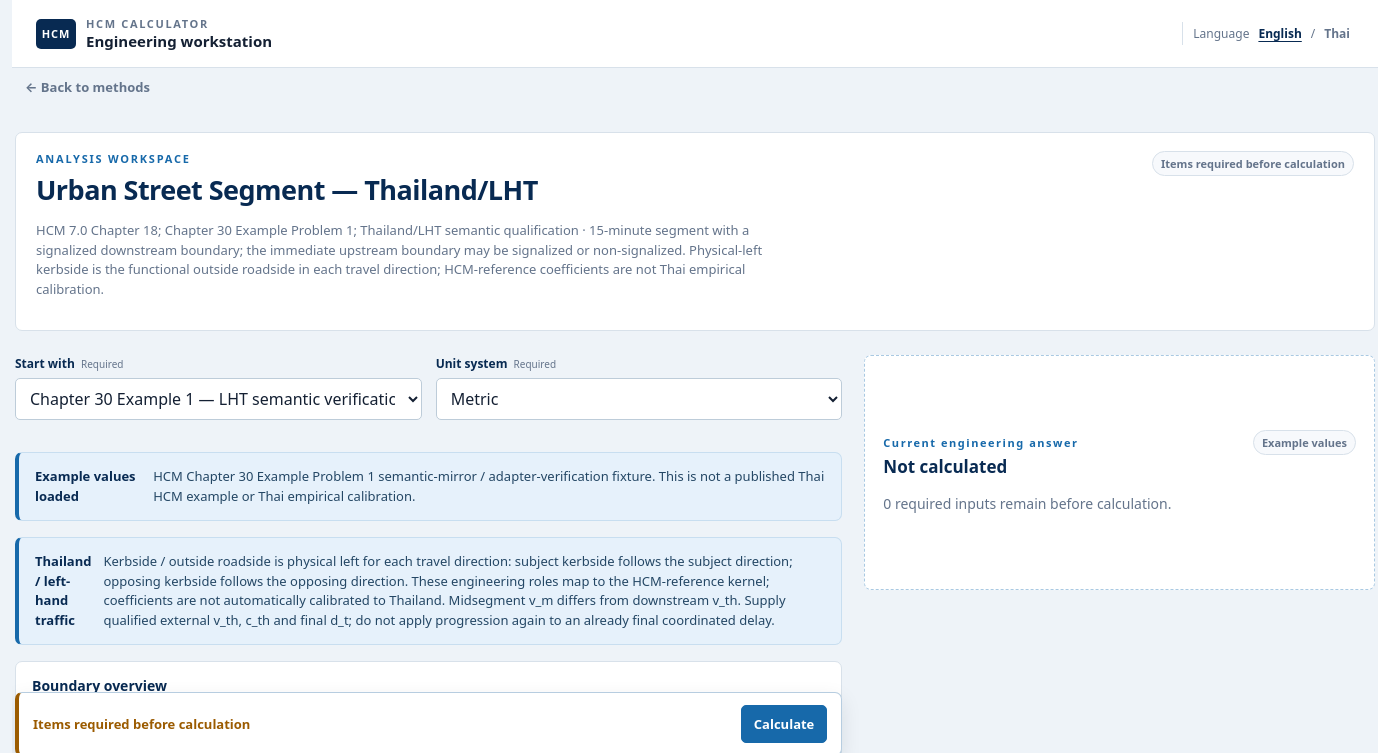
Test: LHT production controls › shows HCM control spacing and upstream geometry help without changing field identities
Click the button "Thai" at (1337, 34), box [1320,22,1354,45]
(page scrolled)
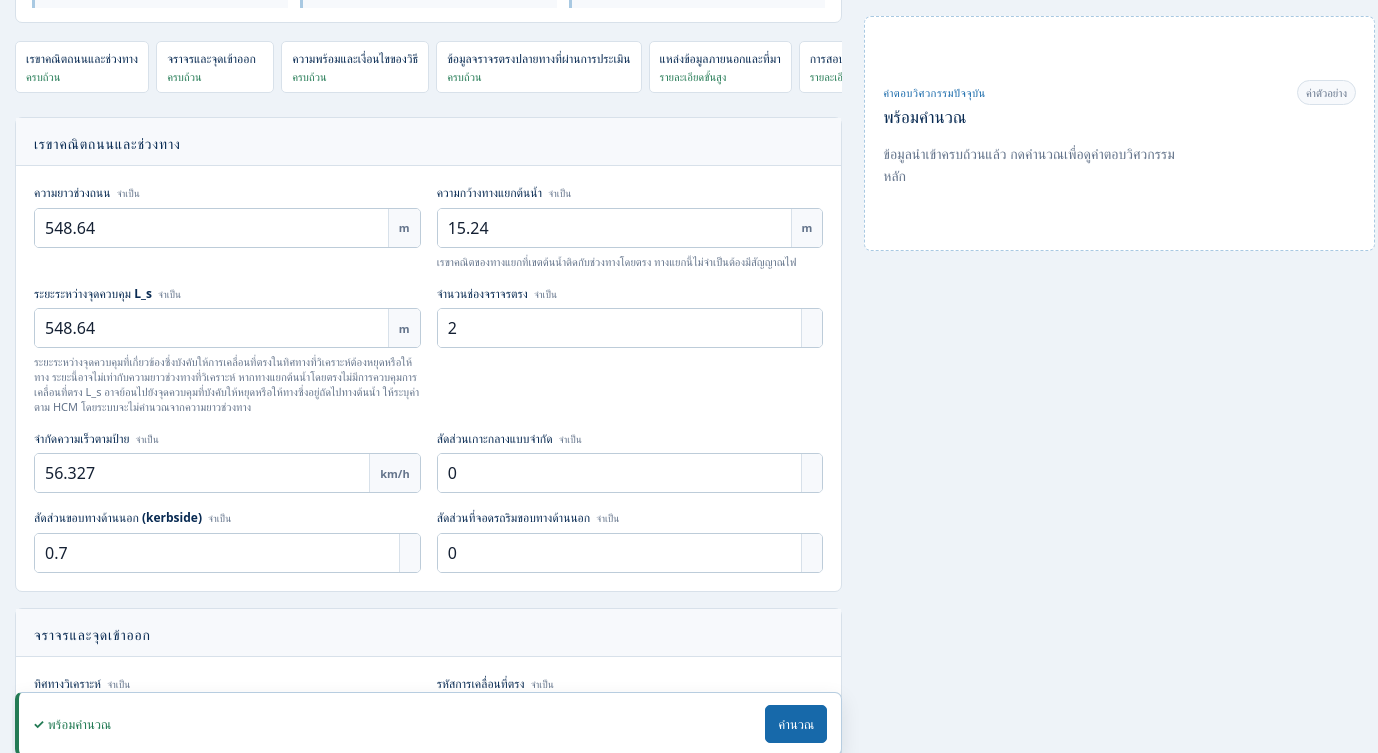
Expected: the number field labelled "ระยะระหว่างจุดควบคุม L_s จำเป็น" is shown, [35,309,388,347]
Expected: the text "ระหว่างจุดควบคุมที่เกี่ยวข้องซึ่งบังคับให้การเคลื่อนที่ตรงในทิศทางที่วิเคราะห์ต้องหยุดหรือให้ทาง" is shown, [34,354,419,414]
